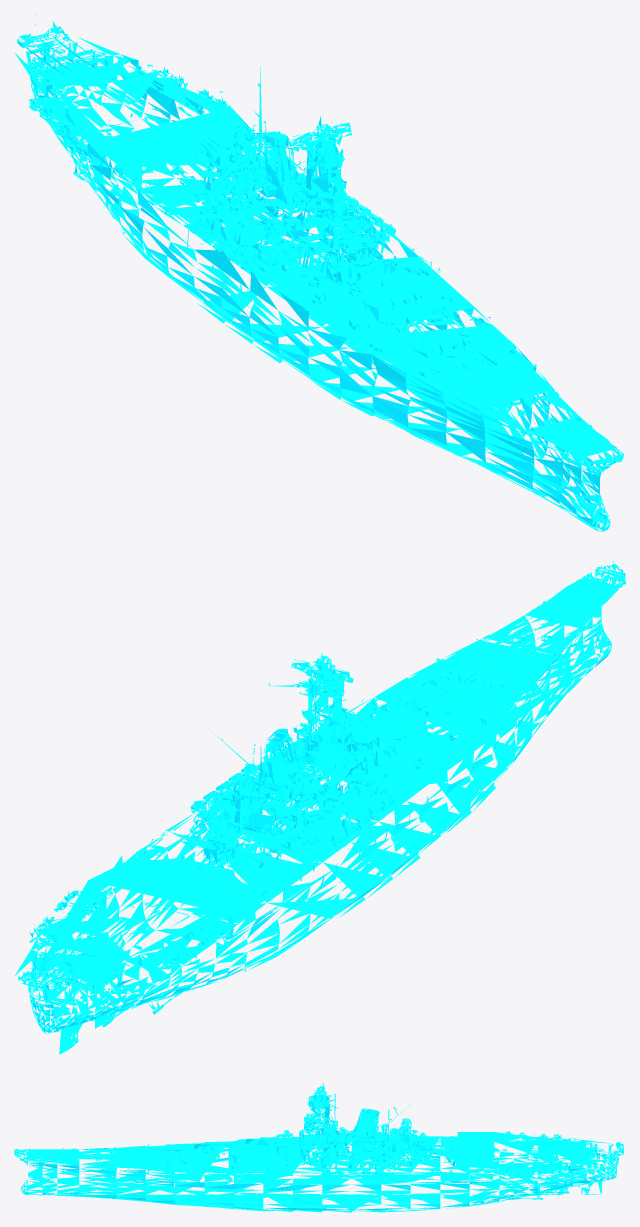
Rendered from PJSB920.glb.
3 renders of one model, top to bottom at view 1: azimuth 30°, elevation 25°; view 2: azimuth 150°, elevation 25°; view 3: azimuth 270°, elevation 25°, orthographic. The views are drawn at different scales.
Visible parts, largest first — view 1: hull, turret; view 2: hull, turret; view 3: hull, turret.
Boxes of the visible parts, x1=… form: hull: x1=15, y1=14, x2=623, y2=531; turret: x1=190, y1=138, x2=496, y2=370; hull: x1=14, y1=561, x2=625, y2=1054; turret: x1=191, y1=660, x2=498, y2=850; hull: x1=14, y1=1083, x2=625, y2=1212; turret: x1=149, y1=1130, x2=448, y2=1173.
Size of the model in its own units: 2.88 by 3.56 by 17.72.
